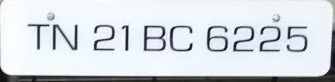character: (51, 23, 79, 52), (232, 23, 257, 54), (168, 24, 194, 53), (142, 23, 167, 53), (26, 21, 50, 51), (92, 24, 116, 53), (258, 24, 282, 53), (285, 24, 309, 53), (206, 24, 229, 53), (120, 23, 130, 53)
